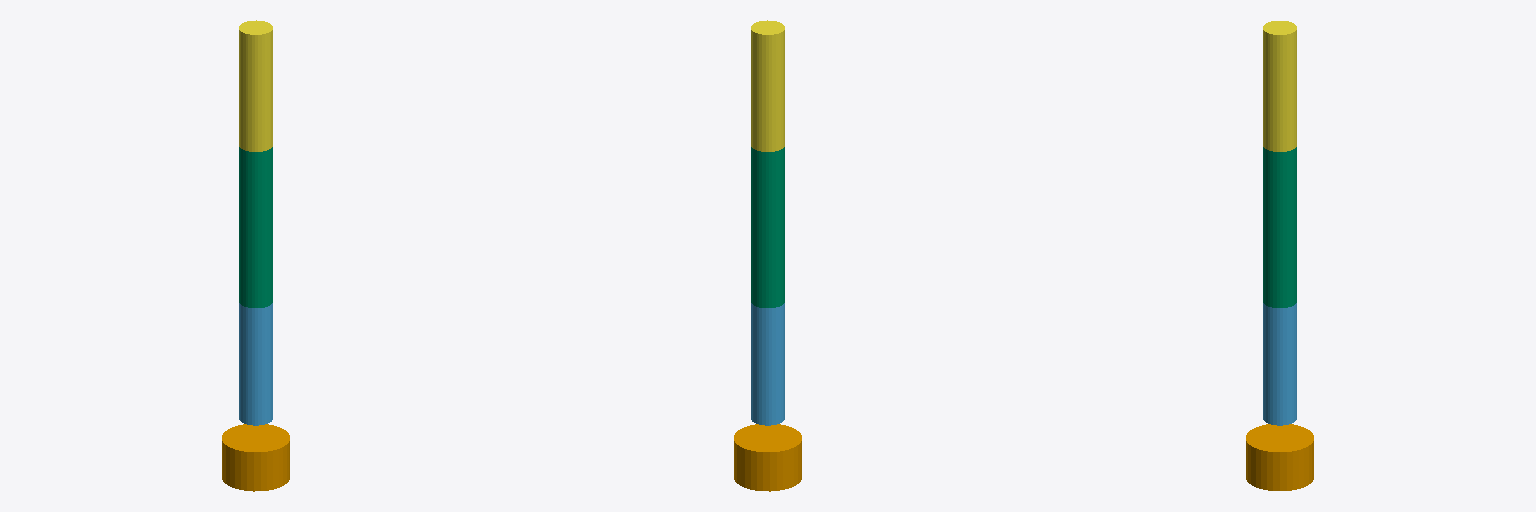
The robot description file, URDF, robot "three_joints":
<?xml version="1.0"?>
<!-- An arm with no "world" link, as CAD exports it. One chain of three or more driven joints:
     Lagrange fixes its base where it starts. Sizes are illustrative. -->
<robot name="three_joints">
  <link name="base_link">
    <inertial>
      <mass value="5"/>
      <inertia ixx="0.05" iyy="0.05" izz="0.05" ixy="0" ixz="0" iyz="0"/>
    </inertial>
    <visual><geometry><cylinder radius="0.08" length="0.1"/></geometry></visual>
    <collision><geometry><cylinder radius="0.08" length="0.1"/></geometry></collision>
  </link>
  <link name="link_1">
    <inertial>
      <origin xyz="0 0 0.15"/>
      <mass value="2"/>
      <inertia ixx="0.03" iyy="0.03" izz="0.005" ixy="0" ixz="0" iyz="0"/>
    </inertial>
    <visual><origin xyz="0 0 0.15"/><geometry><cylinder radius="0.04" length="0.3"/></geometry></visual>
    <collision><origin xyz="0 0 0.15"/><geometry><cylinder radius="0.04" length="0.3"/></geometry></collision>
  </link>
  <joint name="joint_1" type="revolute">
    <parent link="base_link"/>
    <child link="link_1"/>
    <origin xyz="0 0 0.1"/>
    <axis xyz="0 0 1"/>
    <limit lower="-2.5" upper="2.5" effort="80" velocity="3"/>
    <dynamics damping="0.5"/>
  </joint>
  <link name="link_2">
    <inertial>
      <origin xyz="0 0 0.2"/>
      <mass value="2"/>
      <inertia ixx="0.03" iyy="0.03" izz="0.005" ixy="0" ixz="0" iyz="0"/>
    </inertial>
    <visual><origin xyz="0 0 0.2"/><geometry><cylinder radius="0.04" length="0.4"/></geometry></visual>
    <collision><origin xyz="0 0 0.2"/><geometry><cylinder radius="0.04" length="0.4"/></geometry></collision>
  </link>
  <joint name="joint_2" type="revolute">
    <parent link="link_1"/>
    <child link="link_2"/>
    <origin xyz="0 0 0.3"/>
    <axis xyz="0 1 0"/>
    <limit lower="-2.5" upper="2.5" effort="80" velocity="3"/>
    <dynamics damping="0.5"/>
  </joint>
  <link name="link_3">
    <inertial>
      <origin xyz="0 0 0.15"/>
      <mass value="2"/>
      <inertia ixx="0.03" iyy="0.03" izz="0.005" ixy="0" ixz="0" iyz="0"/>
    </inertial>
    <visual><origin xyz="0 0 0.15"/><geometry><cylinder radius="0.04" length="0.3"/></geometry></visual>
    <collision><origin xyz="0 0 0.15"/><geometry><cylinder radius="0.04" length="0.3"/></geometry></collision>
  </link>
  <joint name="joint_3" type="revolute">
    <parent link="link_2"/>
    <child link="link_3"/>
    <origin xyz="0 0 0.4"/>
    <axis xyz="0 1 0"/>
    <limit lower="-2.5" upper="2.5" effort="80" velocity="3"/>
    <dynamics damping="0.5"/>
  </joint>
</robot>

--- What the picture shows (computed from the rendered views, not written in the file) ---
The picture shows the robot from 3 angles, left to right: view 1: azimuth 30°, elevation 25°; view 2: azimuth 150°, elevation 25°; view 3: azimuth 270°, elevation 25°; orthographic projection.
Model three_joints with 4 links and 3 joints (3 revolute), rooted at base_link, posed every joint at zero.
Visible links, largest first — view 1: link_2, link_3, base_link, link_1; view 2: link_2, link_3, base_link, link_1; view 3: link_2, link_3, base_link, link_1.
Boxes of the visible links, x1,y1,x2,y2 form: link_2: (239,147,272,307); link_3: (239,20,272,151); base_link: (222,424,289,491); link_1: (239,303,272,425); link_2: (751,147,784,307); link_3: (751,20,784,151); base_link: (734,424,801,491); link_1: (751,303,784,425); link_2: (1263,147,1296,307); link_3: (1263,21,1296,151); base_link: (1246,424,1313,490); link_1: (1263,303,1296,425).
Size in the robot's own frame: 0.16 by 0.16 by 1.15 metres.
Geometry: primitives only (box / cylinder / sphere), no mesh files.
